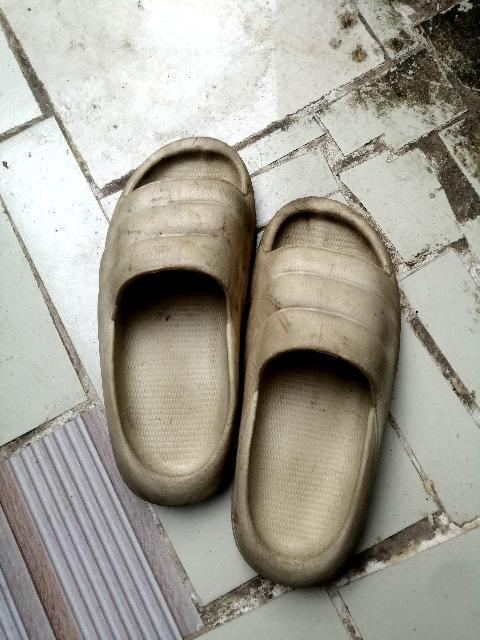sandal: (216, 173, 427, 592), (73, 143, 264, 504)
